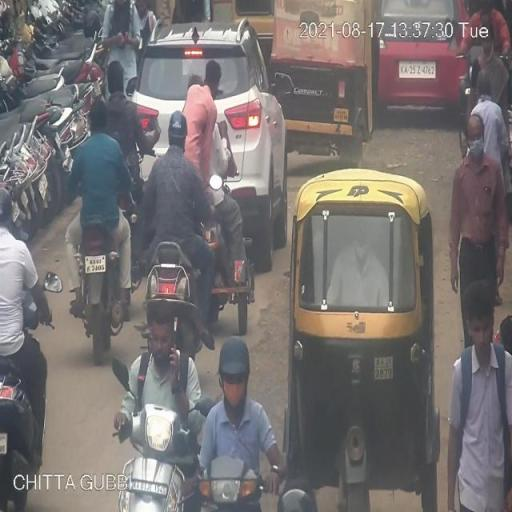using mobile: (168, 327, 182, 391)
